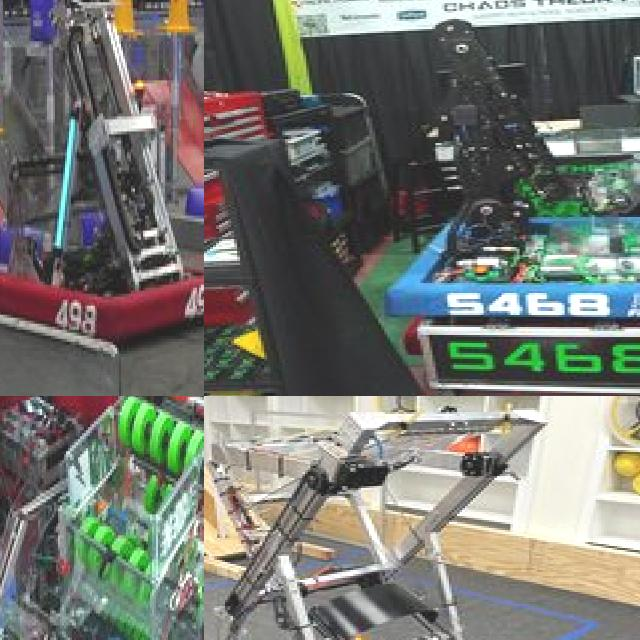FRC-Robots: (357, 24, 640, 309), (233, 396, 553, 640), (0, 0, 204, 361), (0, 396, 204, 640)
